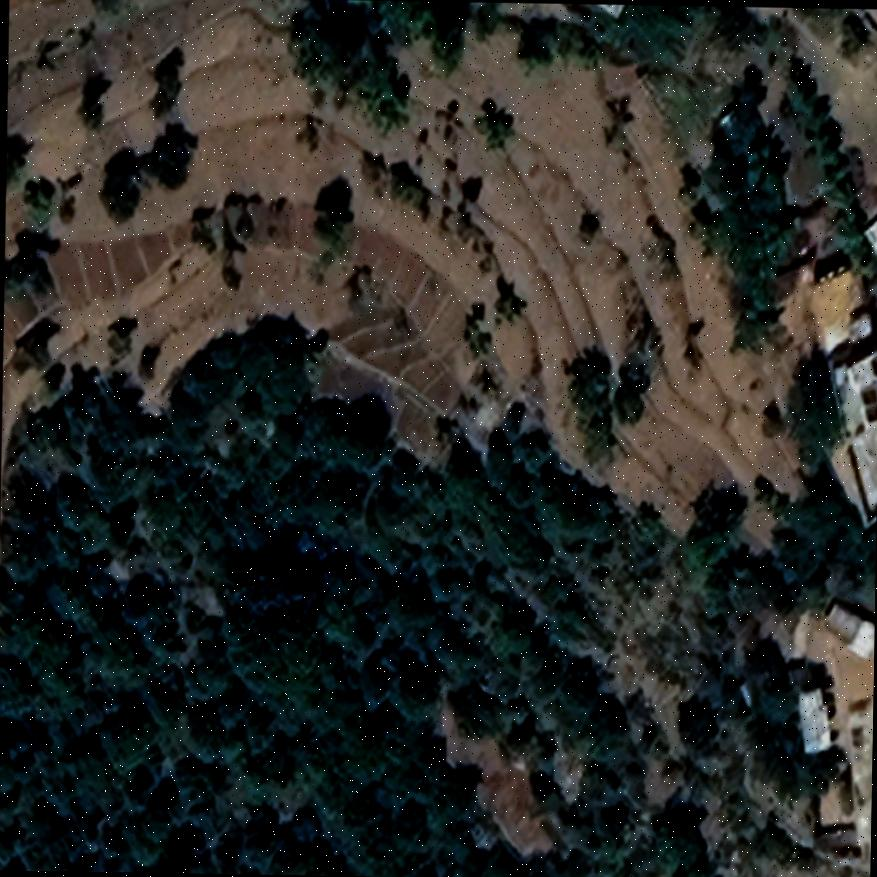Solarpanel: (859, 382, 877, 423)
